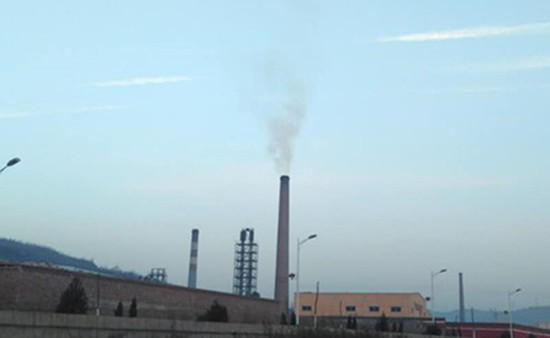dust: (236, 72, 321, 179)
